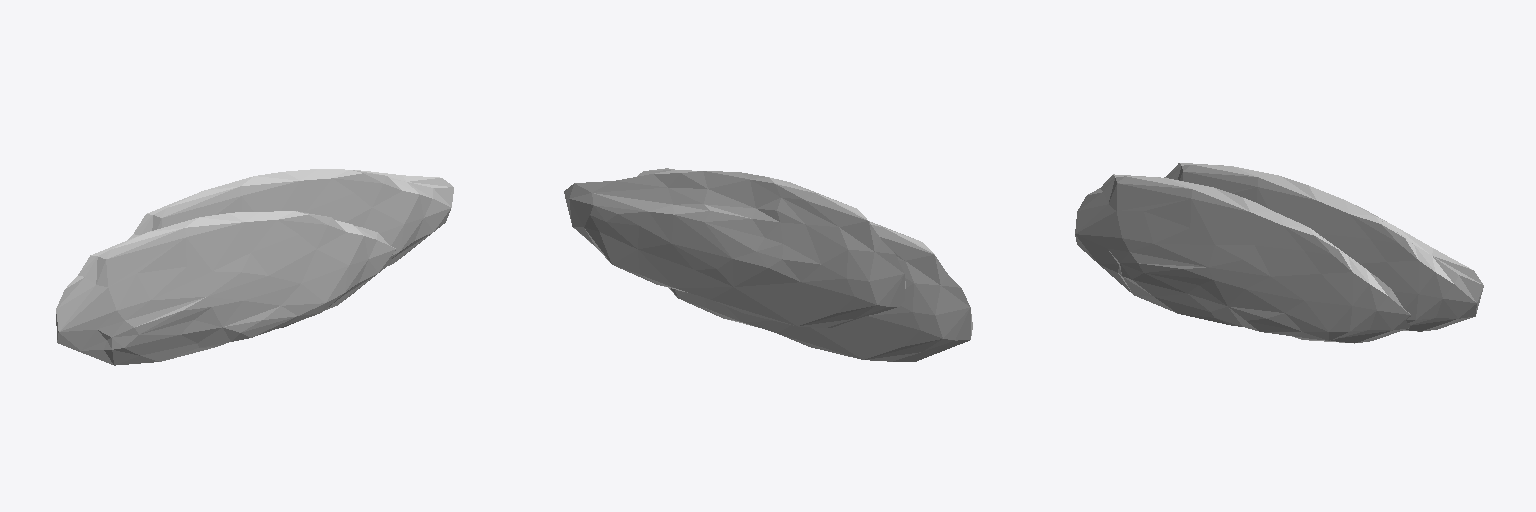
Rendered from RockNew2.obj.
The picture shows the model from 3 angles: view 1: azimuth 30°, elevation 25°; view 2: azimuth 150°, elevation 25°; view 3: azimuth 330°, elevation 25°; orthographic projection.
Parts seen in each view (by area): view 1: Cliff_Rock_One_OBJ.001, Cliff_Rock_One_OBJ; view 2: Cliff_Rock_One_OBJ, Cliff_Rock_One_OBJ.001; view 3: Cliff_Rock_One_OBJ.001, Cliff_Rock_One_OBJ.
Part boxes in pixels (left/top/right/bottom): Cliff_Rock_One_OBJ.001: left=56, top=211, right=395, bottom=365; Cliff_Rock_One_OBJ: left=128, top=169, right=453, bottom=265; Cliff_Rock_One_OBJ: left=564, top=168, right=905, bottom=327; Cliff_Rock_One_OBJ.001: left=669, top=221, right=972, bottom=361; Cliff_Rock_One_OBJ.001: left=1075, top=174, right=1410, bottom=343; Cliff_Rock_One_OBJ: left=1164, top=163, right=1483, bottom=331.
Bounding box in the file's own units: 3.95 × 1.49 × 0.3941.